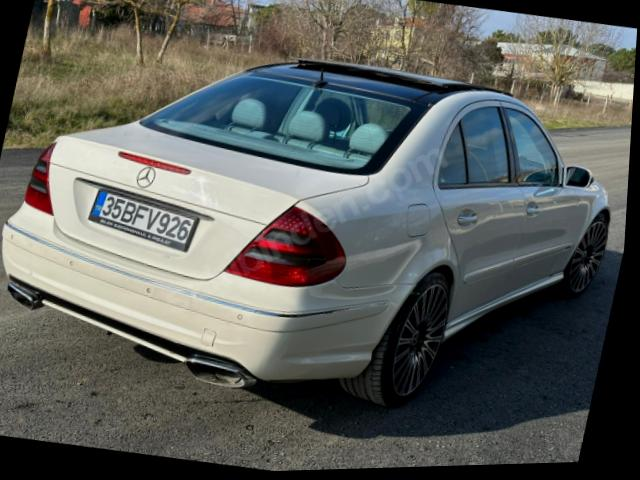plaka: (87, 188, 196, 252)
